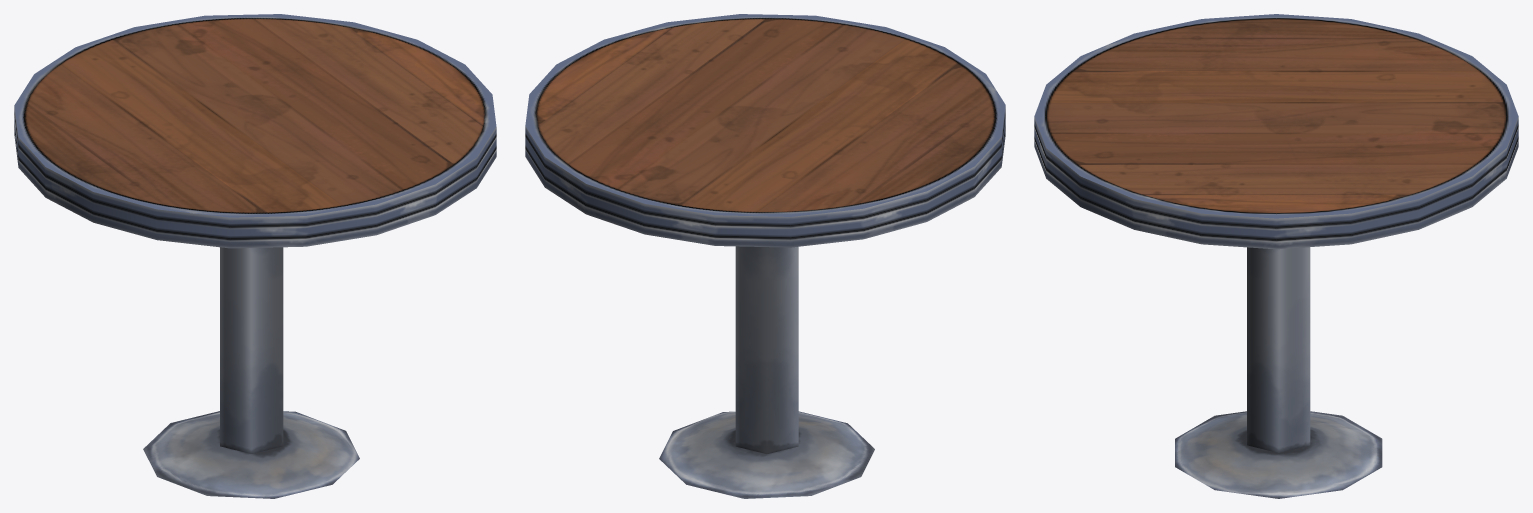
Rendered from FUR0110009.fbx.
3 views of the same model, side by side, from view 1: azimuth 30°, elevation 25°; view 2: azimuth 150°, elevation 25°; view 3: azimuth 270°, elevation 25° (orthographic).
Visible parts, largest first — view 1: smFUR0110009; view 2: smFUR0110009; view 3: smFUR0110009.
Boxes of the visible parts, bbox=[...] form: smFUR0110009: bbox=[14, 14, 496, 498]; smFUR0110009: bbox=[525, 14, 1005, 498]; smFUR0110009: bbox=[1034, 14, 1518, 498].
Size of the model in its own units: 122 by 94.28 by 122.
1 material, 1 textured.
